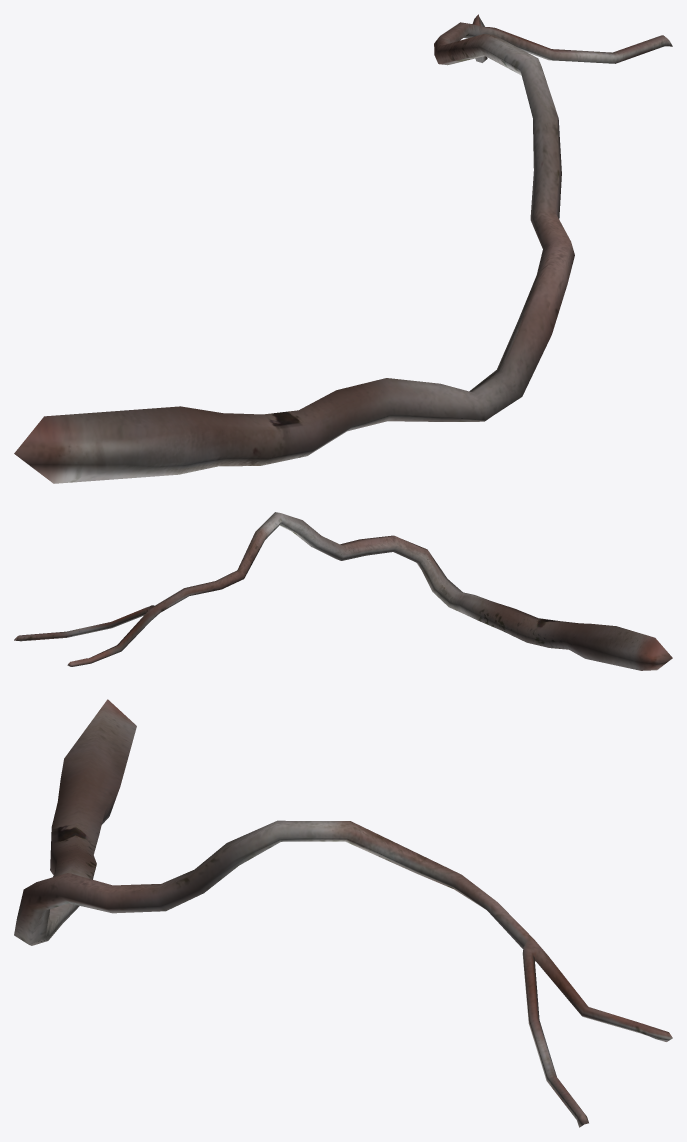
Rendered from StickB.fbx.
3 views of the same model, one above another, from view 1: azimuth 30°, elevation 25°; view 2: azimuth 150°, elevation 25°; view 3: azimuth 270°, elevation 25° (orthographic). The views are drawn at different scales.
Parts seen in each view (by area): view 1: StickB_LOD0; view 2: StickB_LOD0; view 3: StickB_LOD0.
Boxes of the visible parts, x1,y1,x2,y2 form: StickB_LOD0: (14,14,672,483); StickB_LOD0: (14,512,672,670); StickB_LOD0: (14,699,672,1127).
Size of what is drawn, in the model's own units: 91.18 by 22.03 by 61.62.
